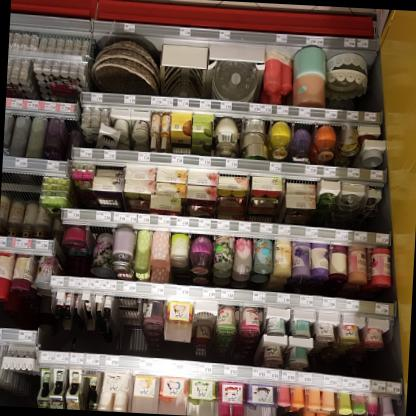empty_space: (0, 169, 41, 201)
